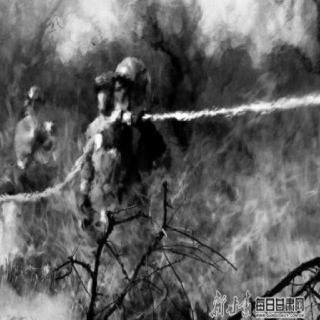Fire: (5, 19, 309, 311)
